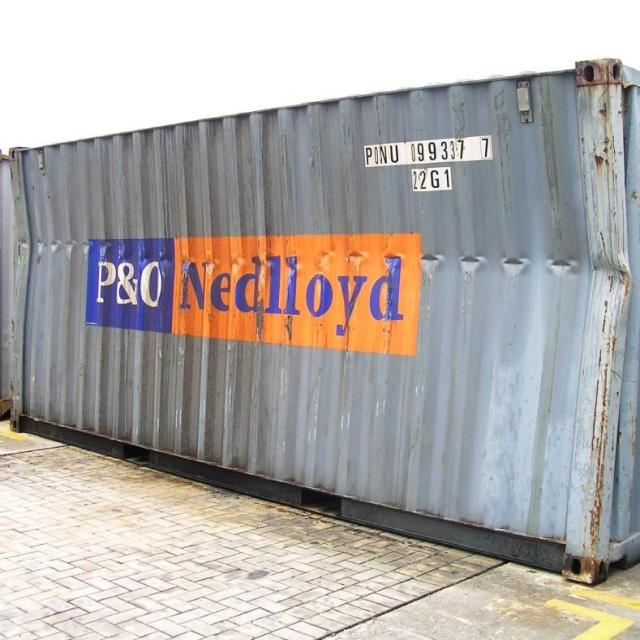dent: (572, 56, 635, 510), (9, 178, 33, 323), (500, 255, 530, 278), (549, 255, 578, 278), (459, 255, 488, 275), (382, 250, 406, 271), (419, 251, 444, 270), (317, 250, 335, 274), (287, 253, 305, 277), (259, 255, 275, 277), (207, 256, 223, 276), (231, 256, 246, 275), (350, 251, 366, 266), (81, 242, 93, 262), (183, 255, 197, 270), (120, 243, 129, 263), (21, 239, 32, 254), (68, 241, 77, 259), (140, 248, 149, 266), (160, 254, 171, 268), (101, 241, 110, 258), (53, 241, 62, 255), (37, 241, 45, 255)
